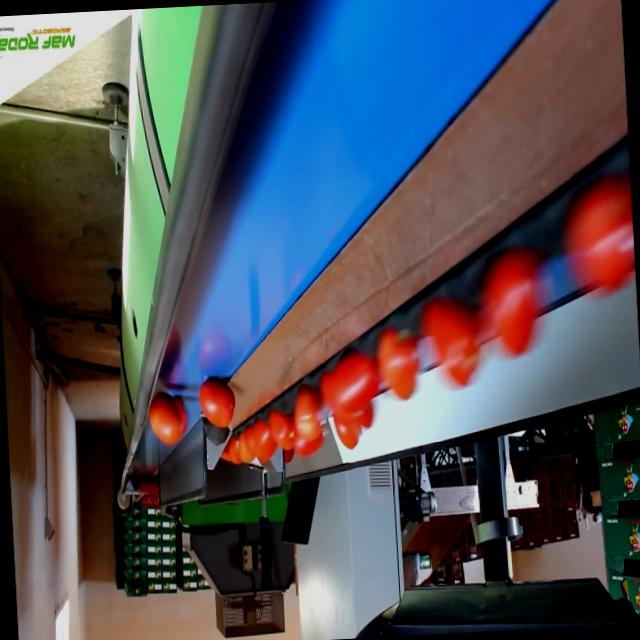Tomato: (566, 181, 632, 292), (422, 294, 484, 392), (485, 245, 539, 352), (376, 320, 423, 402), (332, 355, 380, 415), (197, 372, 240, 426), (148, 394, 189, 449), (292, 388, 332, 442), (250, 420, 278, 461), (268, 408, 294, 446), (292, 437, 322, 460), (240, 437, 252, 465), (230, 442, 242, 464), (140, 477, 150, 492), (148, 475, 156, 492)
